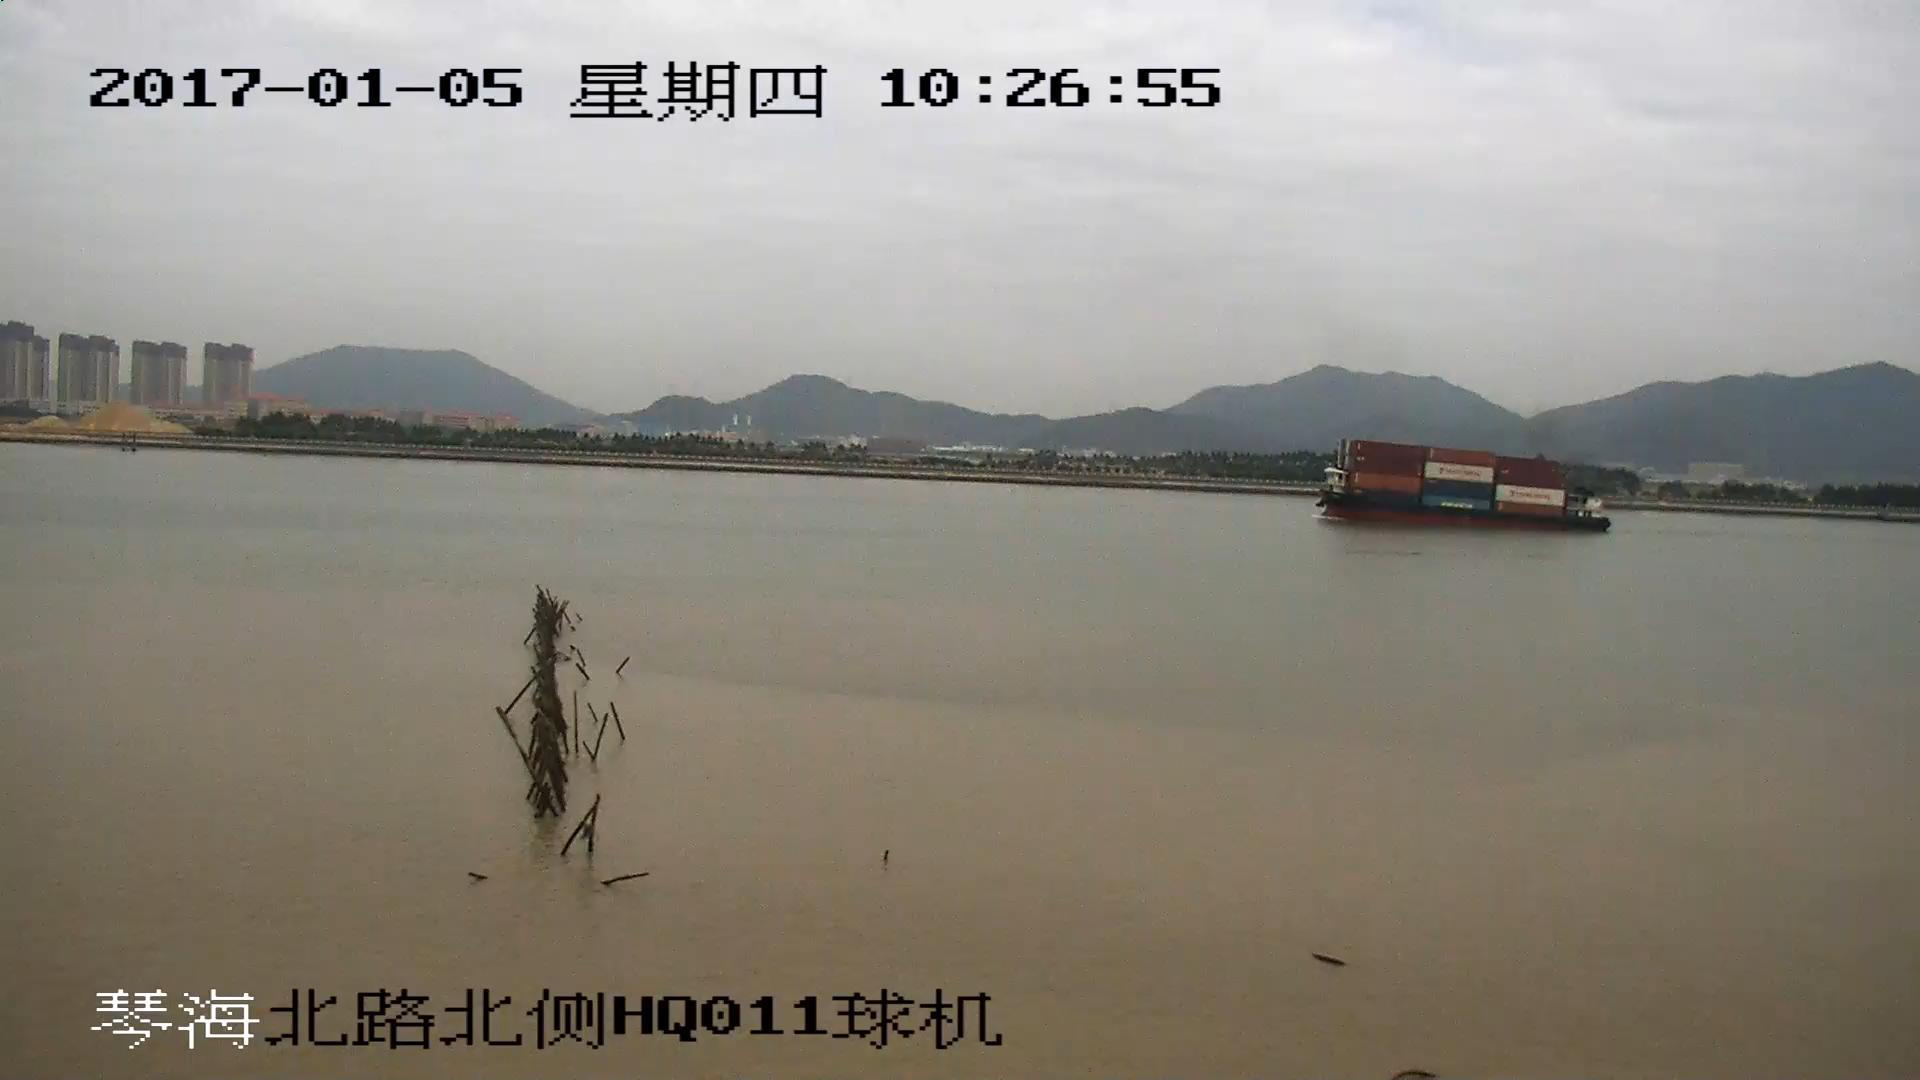Ship: (1315, 444, 1615, 537)
